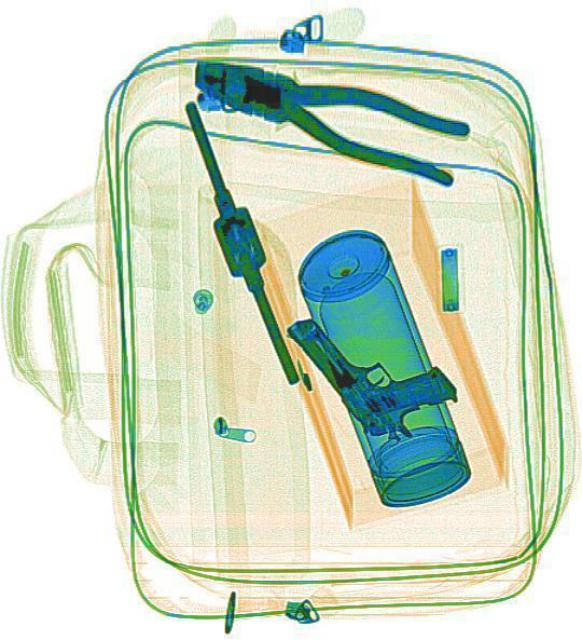Gun: (280, 266, 460, 458)
Pliers: (180, 39, 470, 187)
